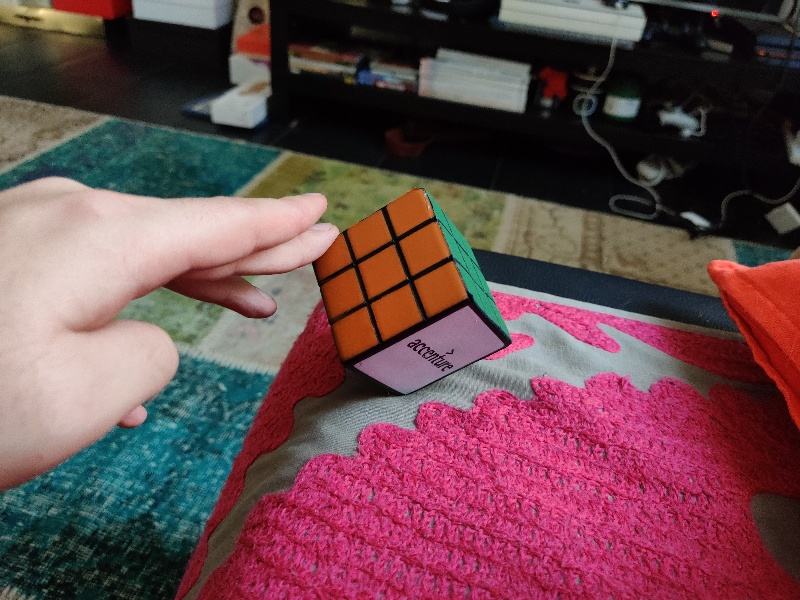rubik: (311, 188, 511, 397)
